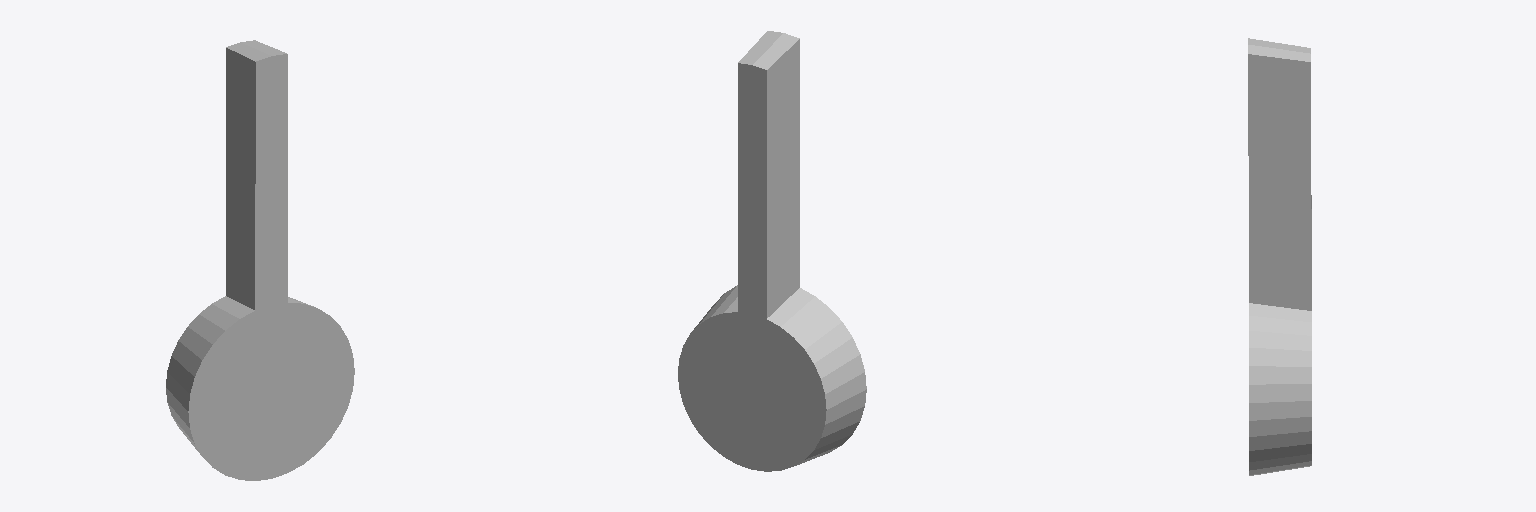
File: SliderHandle.obj
The picture shows the model from 3 angles: view 1: azimuth 30°, elevation 25°; view 2: azimuth 150°, elevation 25°; view 3: azimuth 270°, elevation 25°; orthographic projection.
Visible parts, largest first — view 1: SliderHandle; view 2: SliderHandle; view 3: SliderHandle.
Boxes of the visible parts, box(x1,y1,x2,y2) form: SliderHandle: box(166, 40, 354, 480); SliderHandle: box(678, 31, 866, 471); SliderHandle: box(1248, 38, 1311, 475).
Size of the model in its own units: 0.0284 by 0.069 by 0.0094.